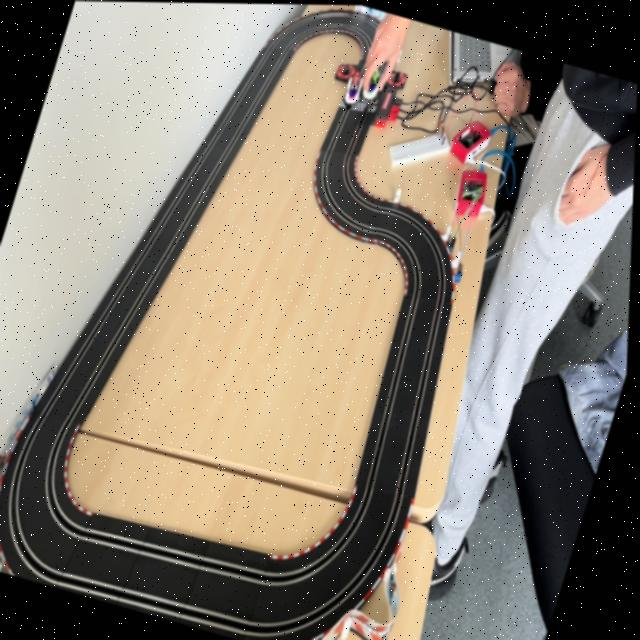mario: (341, 66, 368, 107)
yoshi: (359, 63, 388, 102)
